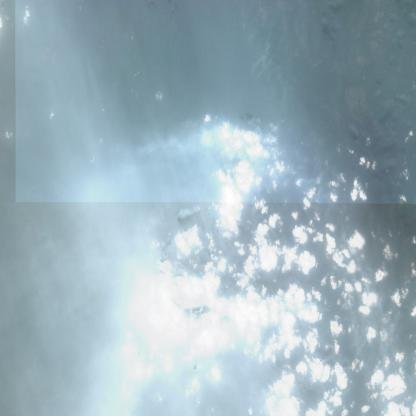fire: (265, 112, 290, 170), (311, 160, 333, 198)
